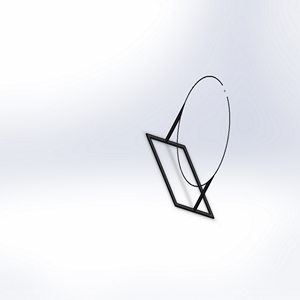circle: (144, 74, 232, 219)
